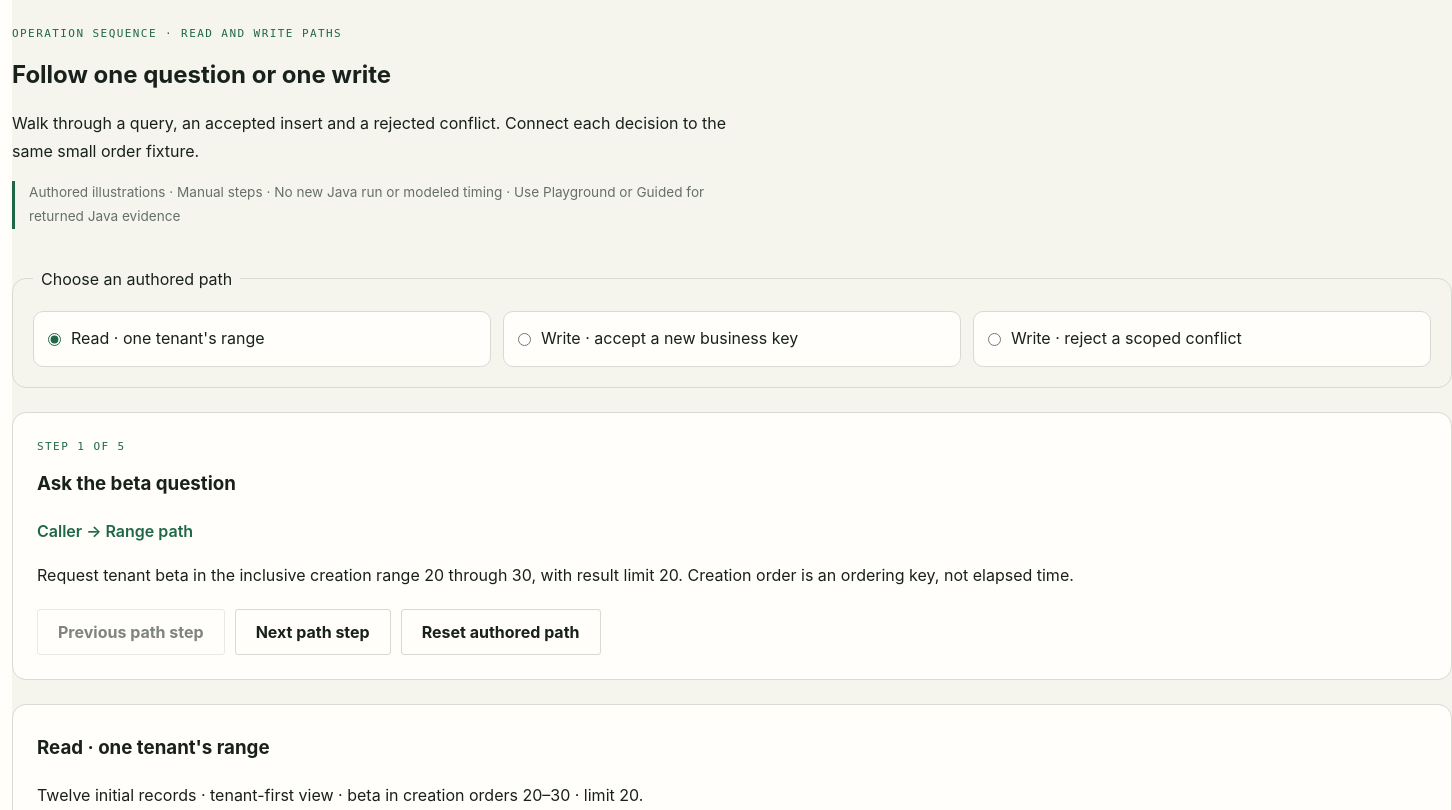
Test: manually steps the normal query with a complete ordered explanation and no timing
This screenshot has width=1452, height=810.
Expected: the element named "Selected authored operation step" shows "Step 1 of 5", [12,412,1451,680]
Click the button "Next path step" at point(313, 632), box [235,609,391,655]
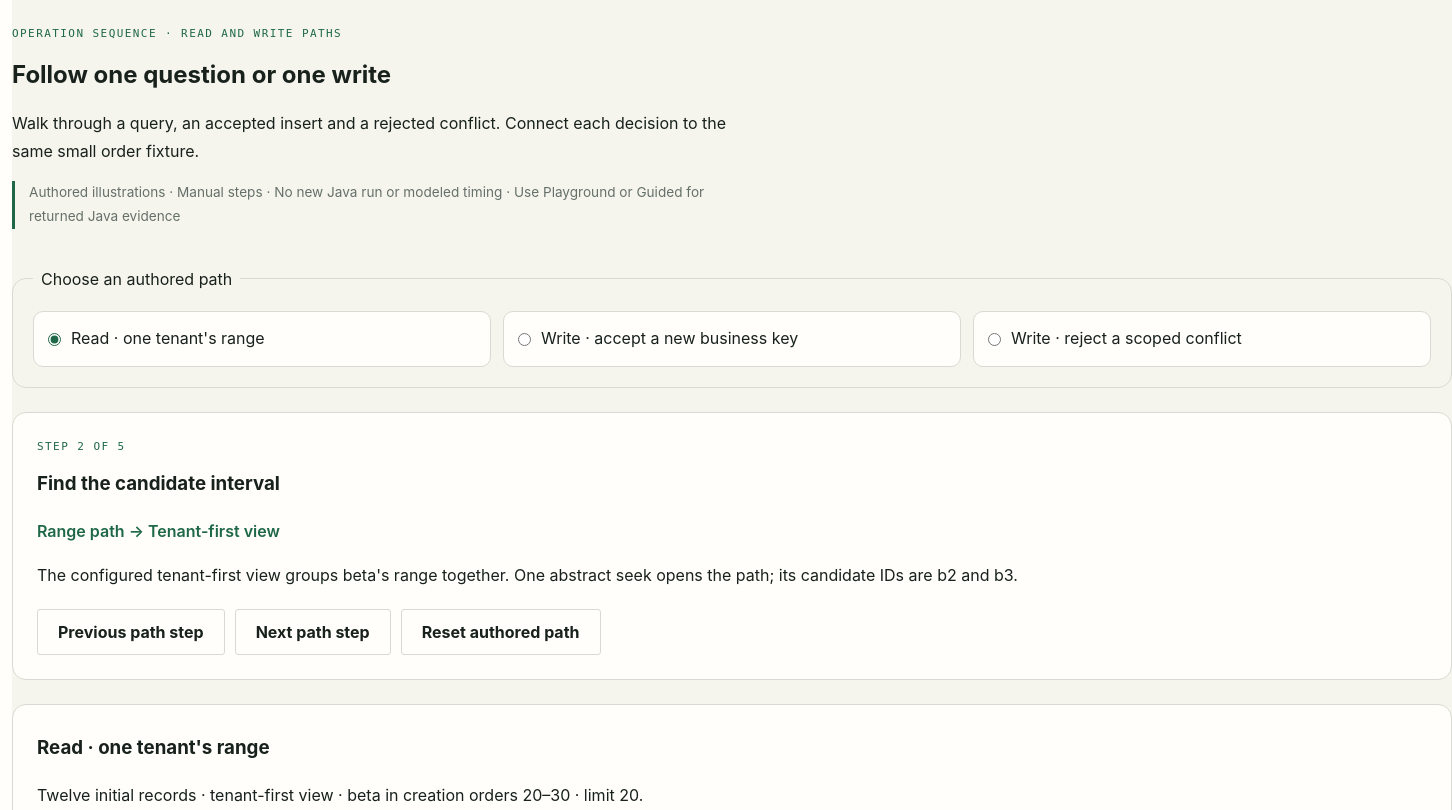
Expected: the element named "Selected authored operation step" shows "candidate IDs are b2 and b3", [37,565,1018,585]
Click the button "Next path step" at point(313, 632), box [235,609,391,655]
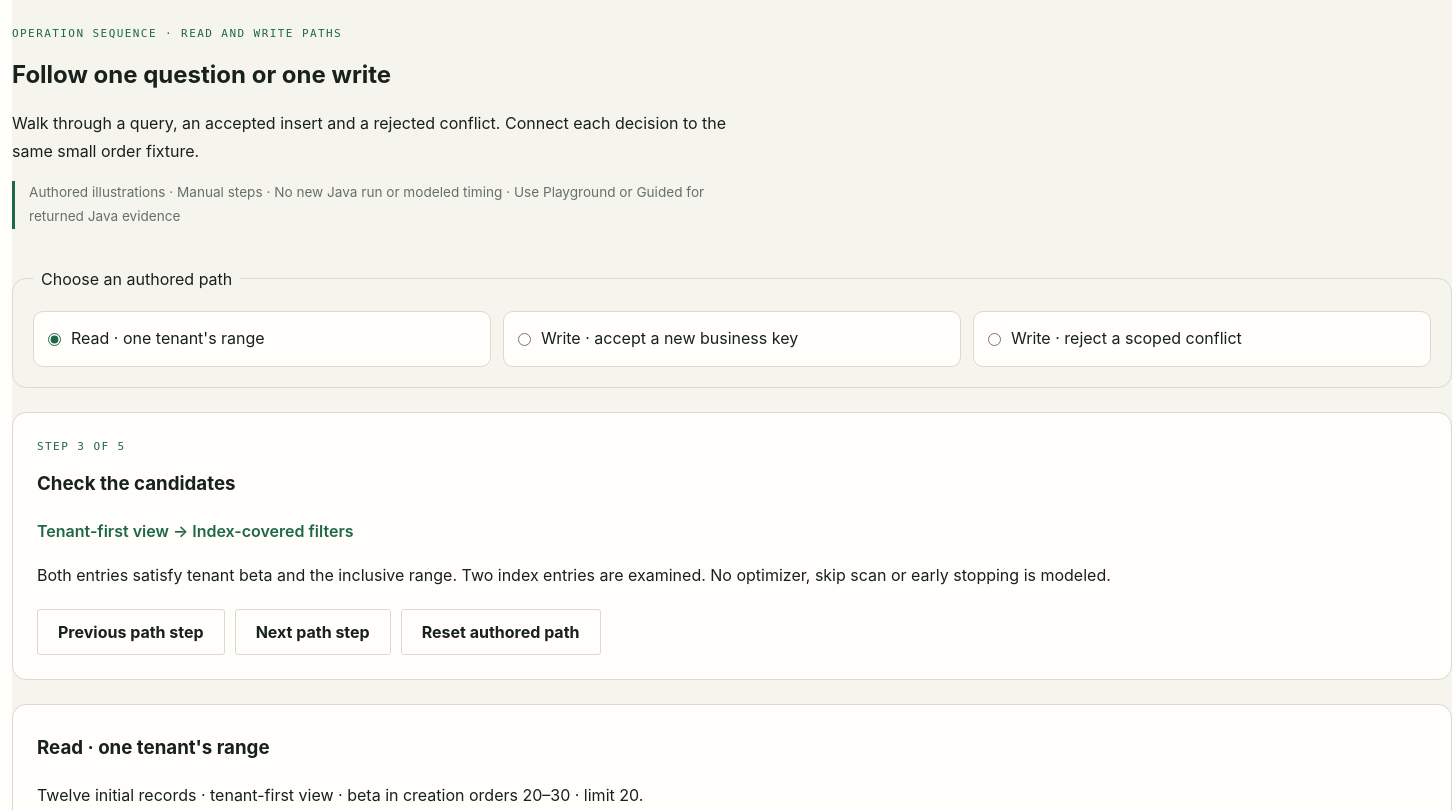
Click the button "Next path step" at point(313, 632), box [235,609,391,655]
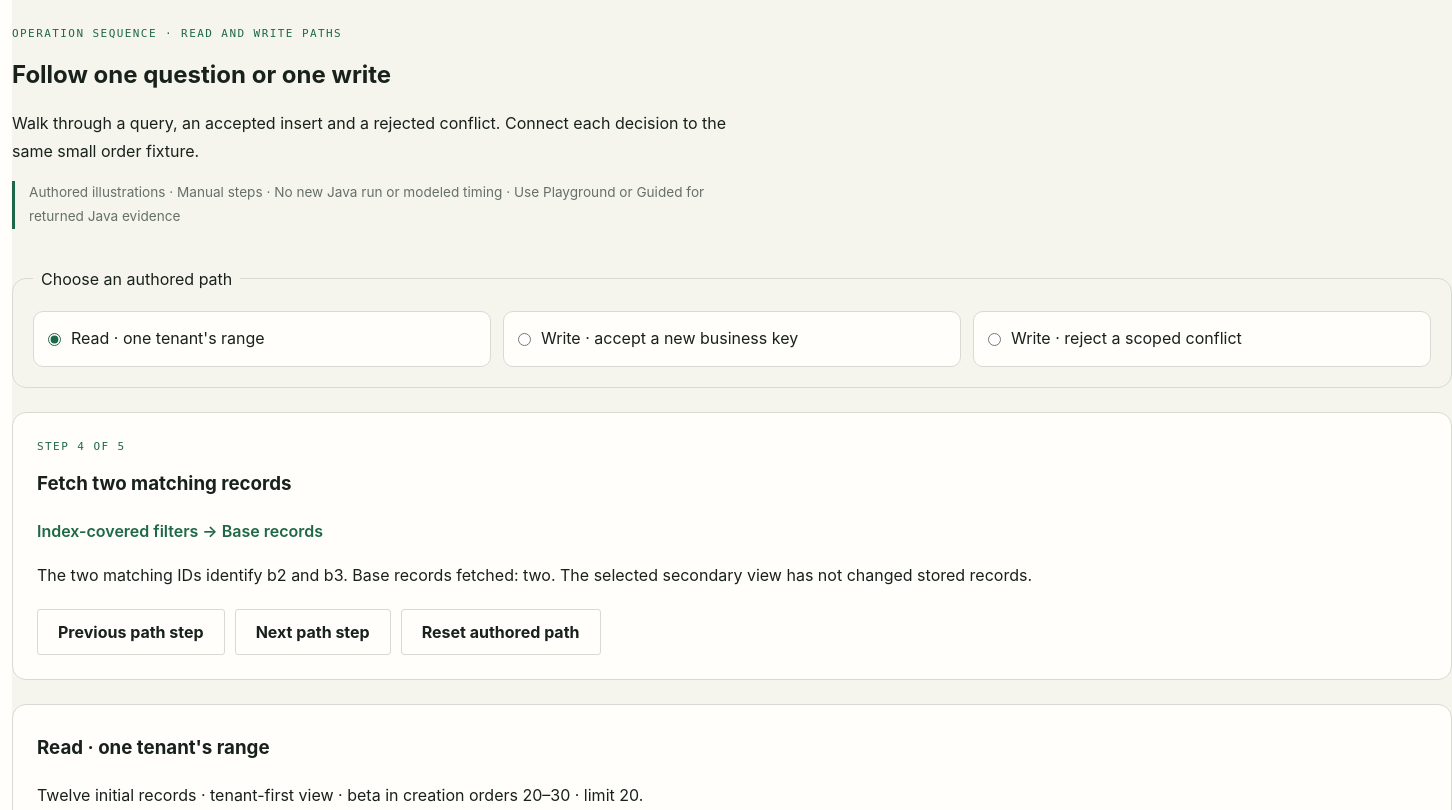
Click the button "Next path step" at point(313, 632), box [235,609,391,655]
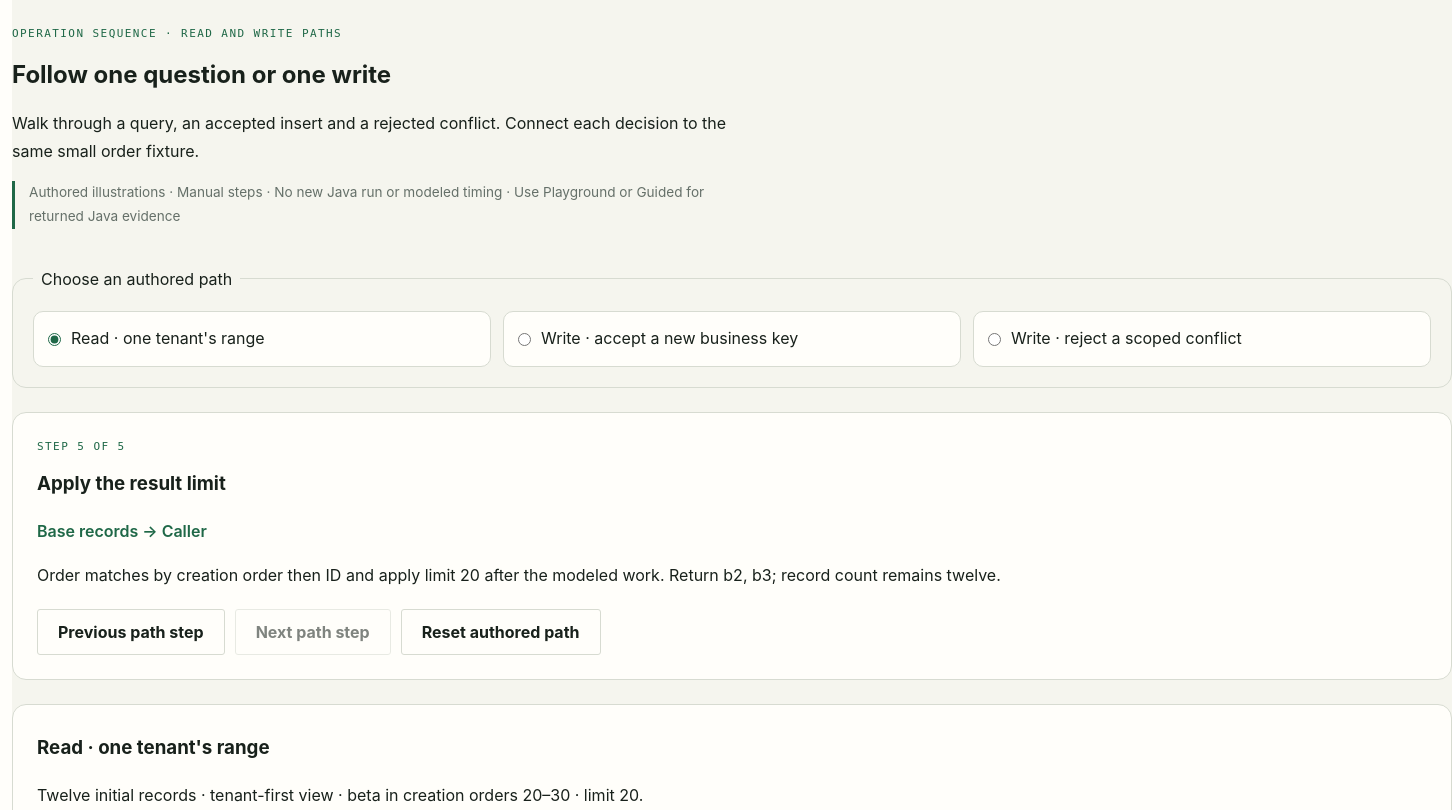
Expected: the element named "Selected authored operation step" shows "record count remains twelve", [37,565,1001,585]
Expected: the button "Next path step" is disabled, [235,609,391,655]
Click the button "Previous path step" at point(131, 632), box [37,609,225,655]
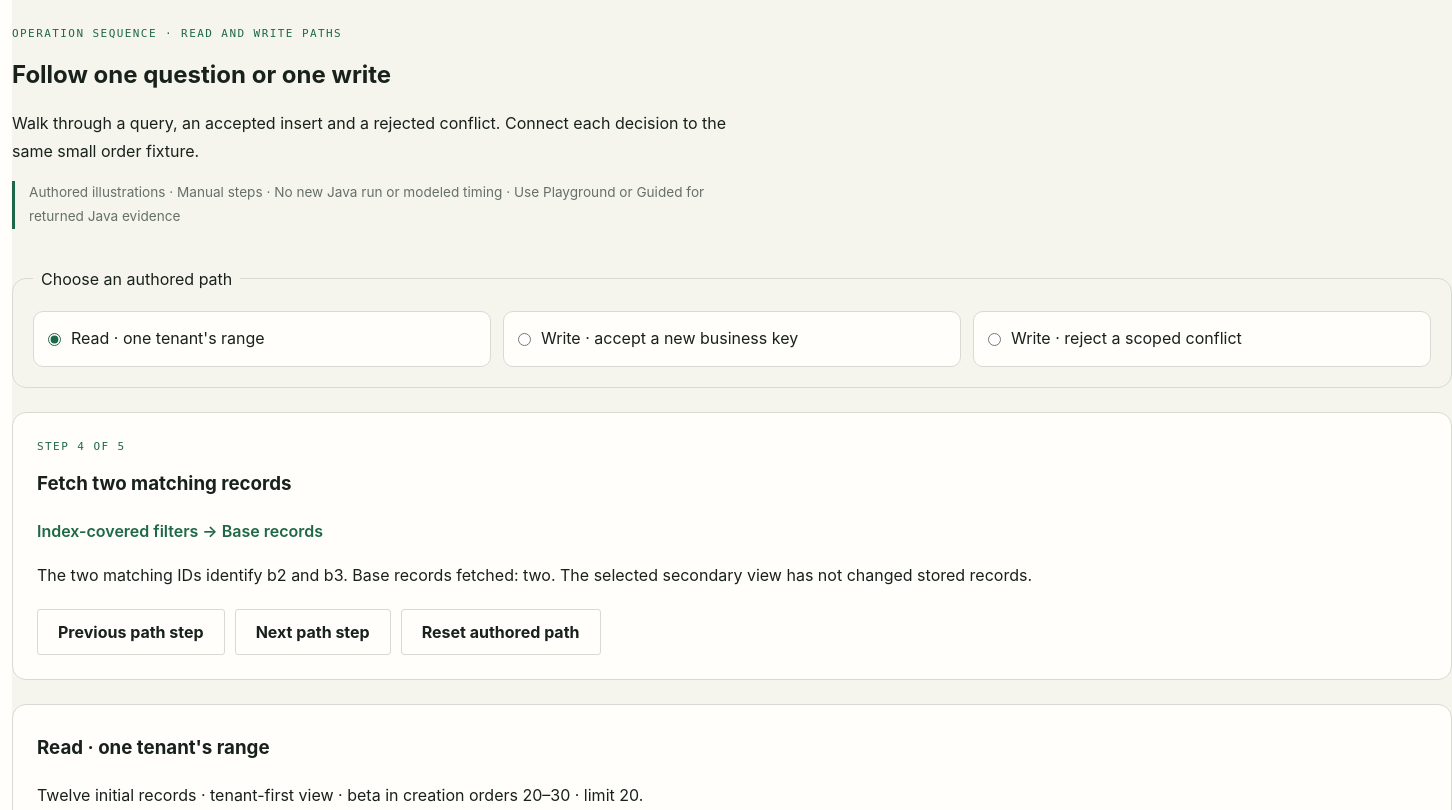
Expected: the element named "Selected authored operation step" shows "Fetch two matching records", [37,472,292,495]
Click the button "Reset authored path" at point(501, 632), box [401,609,600,655]
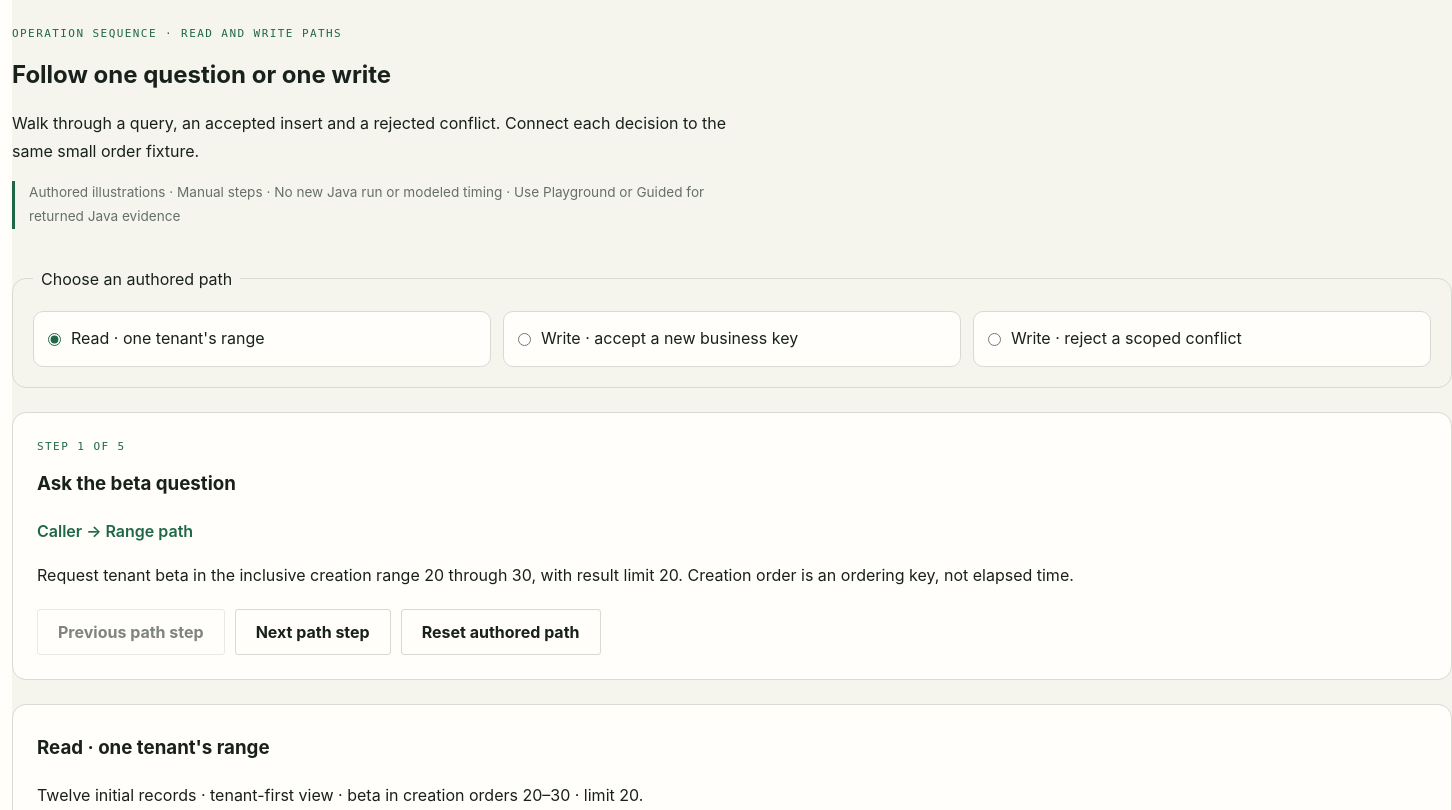
Expected: the element named "Selected authored operation step" shows "Step 1 of 5", [12,412,1451,680]
